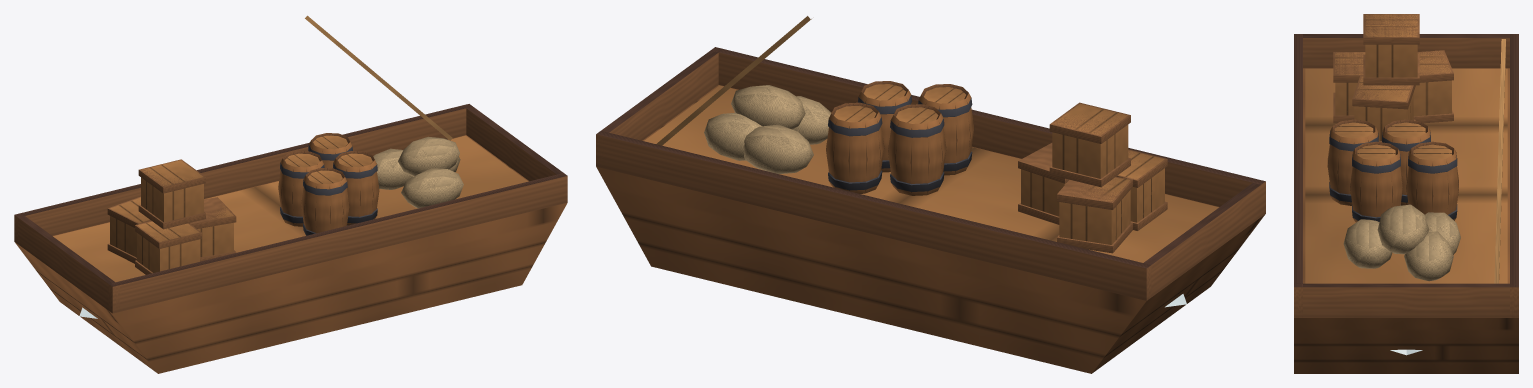
Rendered from boat_barge_01.glb.
3 renders of one model, left to right at view 1: azimuth 30°, elevation 25°; view 2: azimuth 150°, elevation 25°; view 3: azimuth 270°, elevation 25°, orthographic. The views are drawn at different scales.
Visible parts, largest first — view 1: boat_barge_01; view 2: boat_barge_01; view 3: boat_barge_01.
Part boxes in pixels (x1,y1,x2,y2): boat_barge_01: [14, 15, 567, 373]; boat_barge_01: [596, 16, 1265, 373]; boat_barge_01: [1294, 14, 1518, 373].
Size of the model in its own units: 8 by 3.92 by 3.
Materials: 1 (1 with a texture image).
